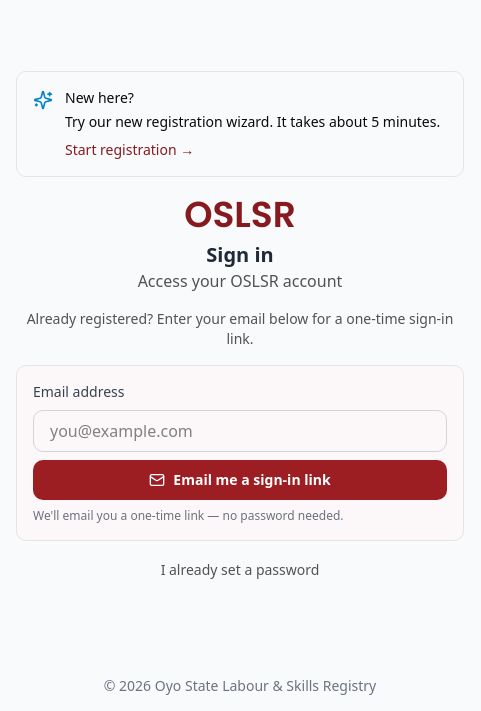
LoginPage › does not duplicate the OSLSR branding/heading when the password form is revealed
Step 1. Click the button with test id "password-signin-reveal" → click(240, 570), box x1=161 y1=560 x2=319 y2=580
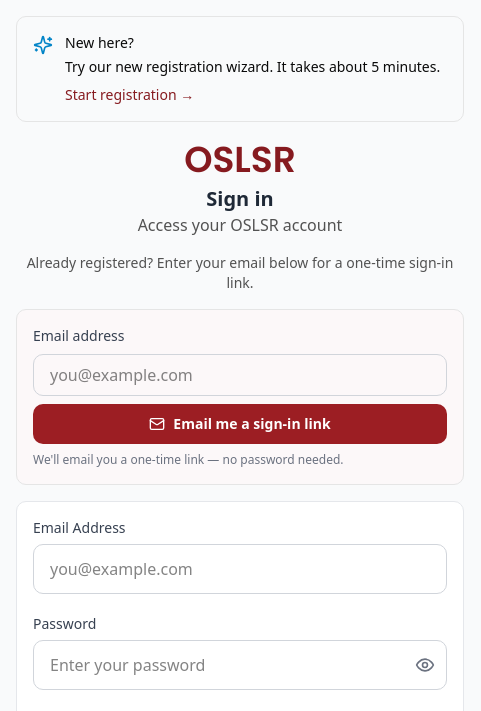
Expected: the number of headings "OSLSR" is 1, x1=184 y1=134 x2=296 y2=185
Now the password field with placeholder "Enter your password" is shown, box x1=33 y1=640 x2=447 y2=690
